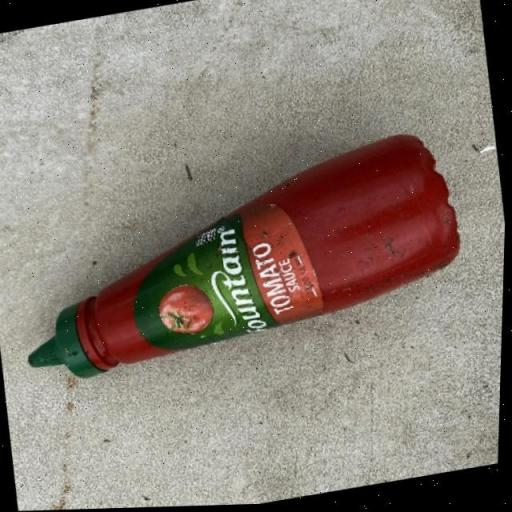plastic: (6, 127, 475, 388)
